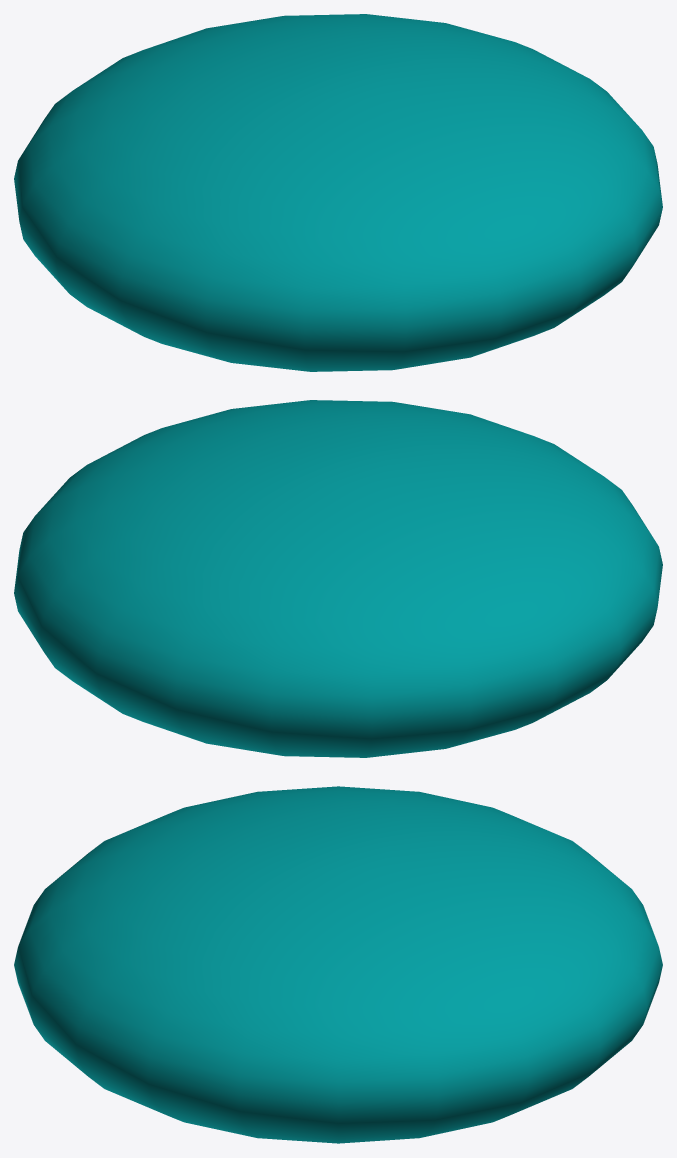
Rendered from slime2.fbx.
3 views of the same model, one above another, from view 1: azimuth 30°, elevation 25°; view 2: azimuth 150°, elevation 25°; view 3: azimuth 270°, elevation 25° (orthographic).
Visible parts, largest first — view 1: pSphere1; view 2: pSphere1; view 3: pSphere1.
Part boxes in pixels (<box>): pSphere1: <box>14,14,662,371</box>; pSphere1: <box>14,400,662,757</box>; pSphere1: <box>14,786,662,1143</box>.
Bounding box in the file's own units: 5.67 × 2.22 × 5.67.
